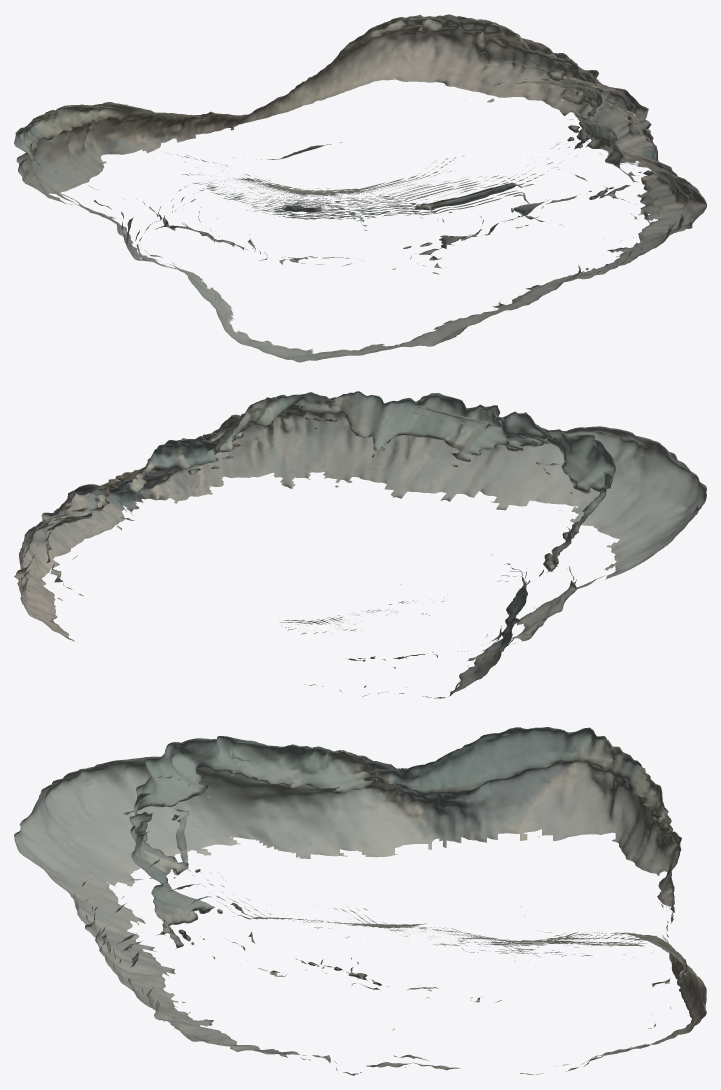
Rendered from collider.glb.
3 views of the same model, one above another, from view 1: azimuth 30°, elevation 25°; view 2: azimuth 150°, elevation 25°; view 3: azimuth 270°, elevation 25° (orthographic). The views are drawn at different scales.
Parts seen in each view (by area): view 1: world; view 2: world; view 3: world.
Boxes of the visible parts, x1,y1,x2,y2 form: world: (14, 14, 706, 362); world: (14, 391, 706, 698); world: (14, 727, 706, 1075).
Size of the model in its own units: 78.59 by 16.51 by 82.72.
